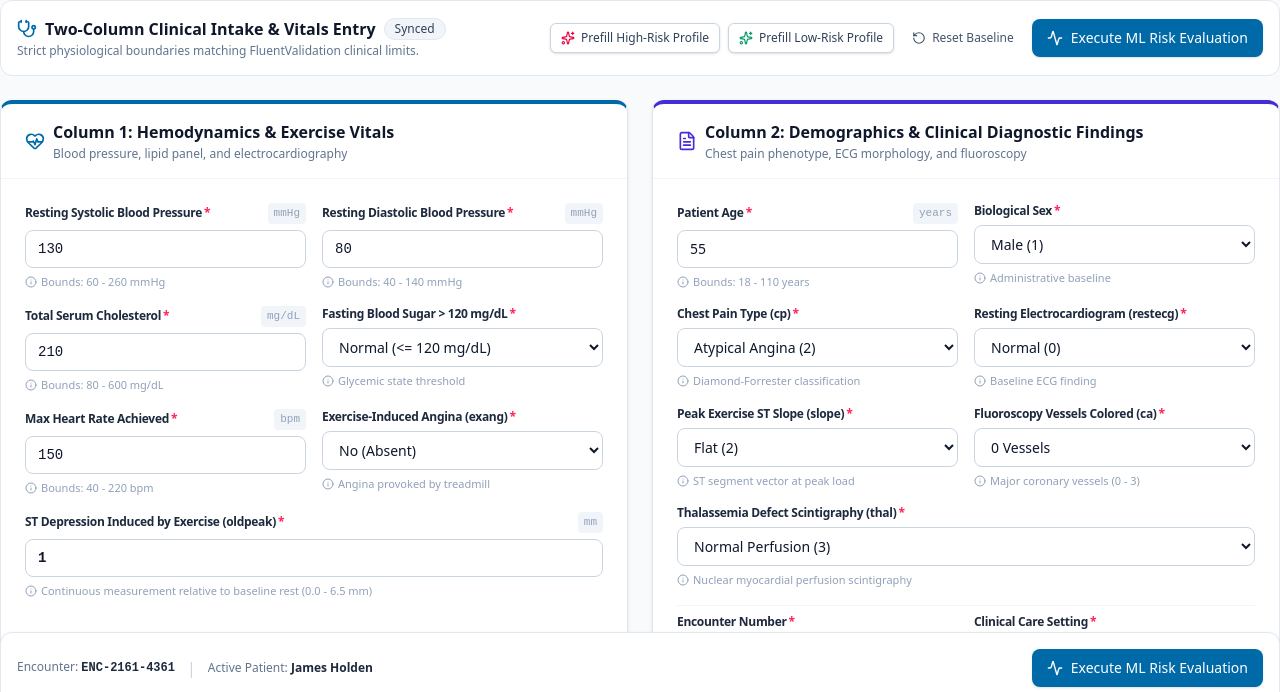
Test case: ClinicalIntakeForm Two-Column Component › resets form when reset baseline button is clicked
Click the button "Prefill High-Risk Profile" at (635, 38), box [550,23,720,53]
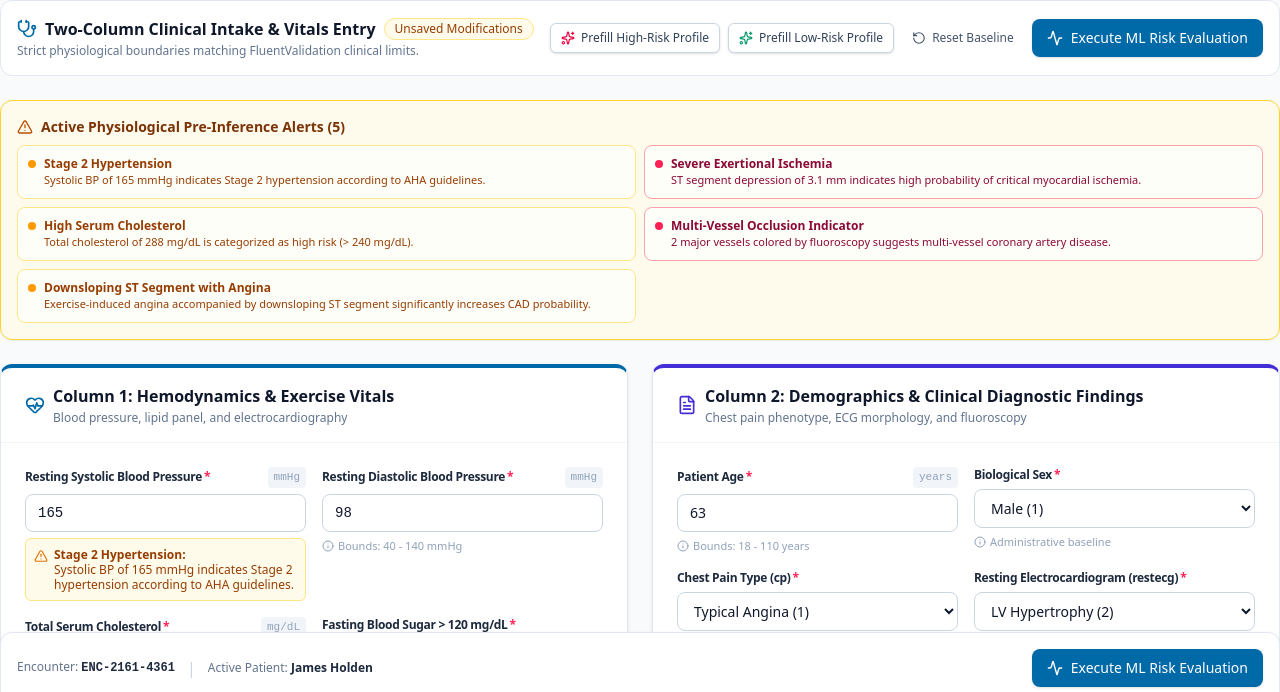
Check: the number field labelled "Resting Systolic Blood Pressure*" holds "165", box [25,494,306,532]
Click the button "Reset Baseline" at (963, 38), box [902,24,1024,52]
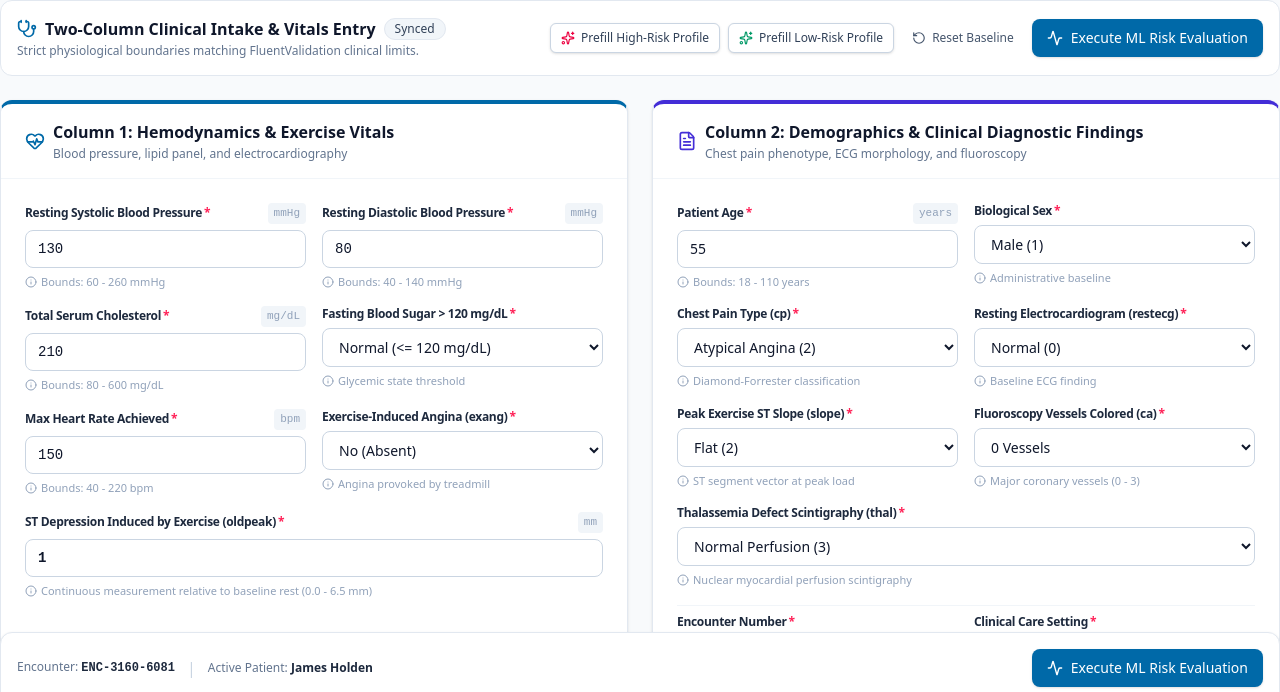
Check: the number field labelled "Resting Systolic Blood Pressure*" holds "130", box [25,230,306,268]
